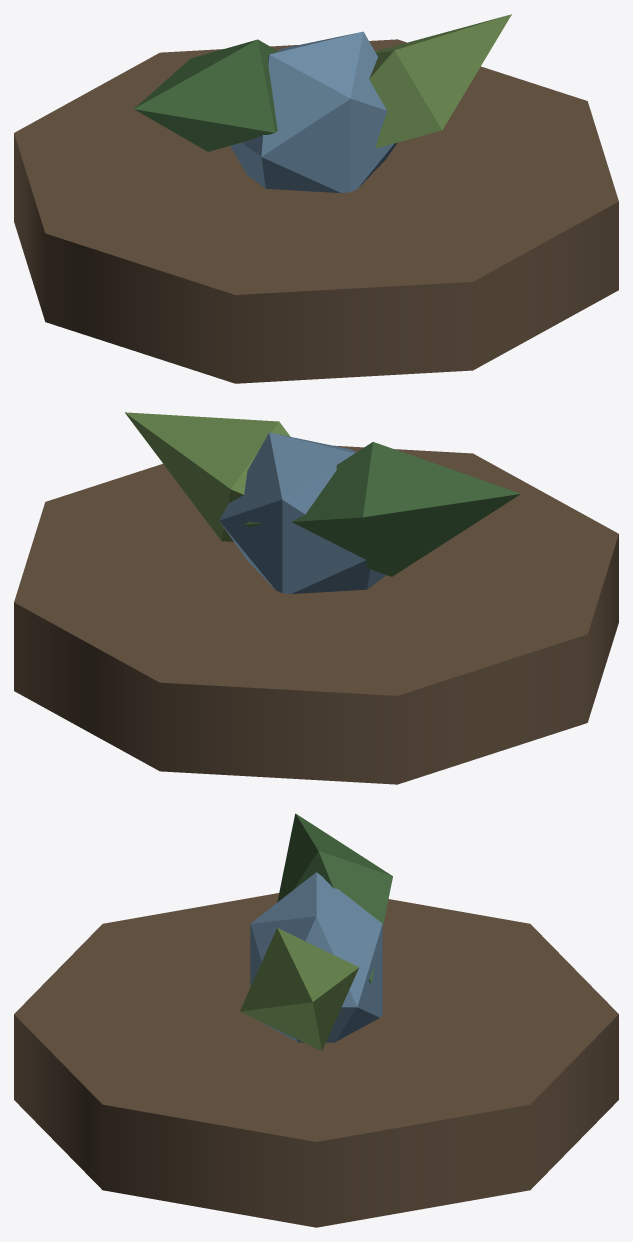
Rendered from plant-bluebell-0.glb.
The picture shows the model from 3 angles, top to bottom: view 1: azimuth 30°, elevation 25°; view 2: azimuth 150°, elevation 25°; view 3: azimuth 270°, elevation 25°; orthographic projection. The views are drawn at different scales.
Parts seen in each view (by area): view 1: plant-bluebell-0-visual; view 2: plant-bluebell-0-visual; view 3: plant-bluebell-0-visual.
Part boxes in pixels (x1,y1,x2,y2): plant-bluebell-0-visual: (14,14,618,383); plant-bluebell-0-visual: (14,412,618,784); plant-bluebell-0-visual: (14,813,618,1227).
Size of the model in its own units: 0.32 by 0.1296 by 0.32.
